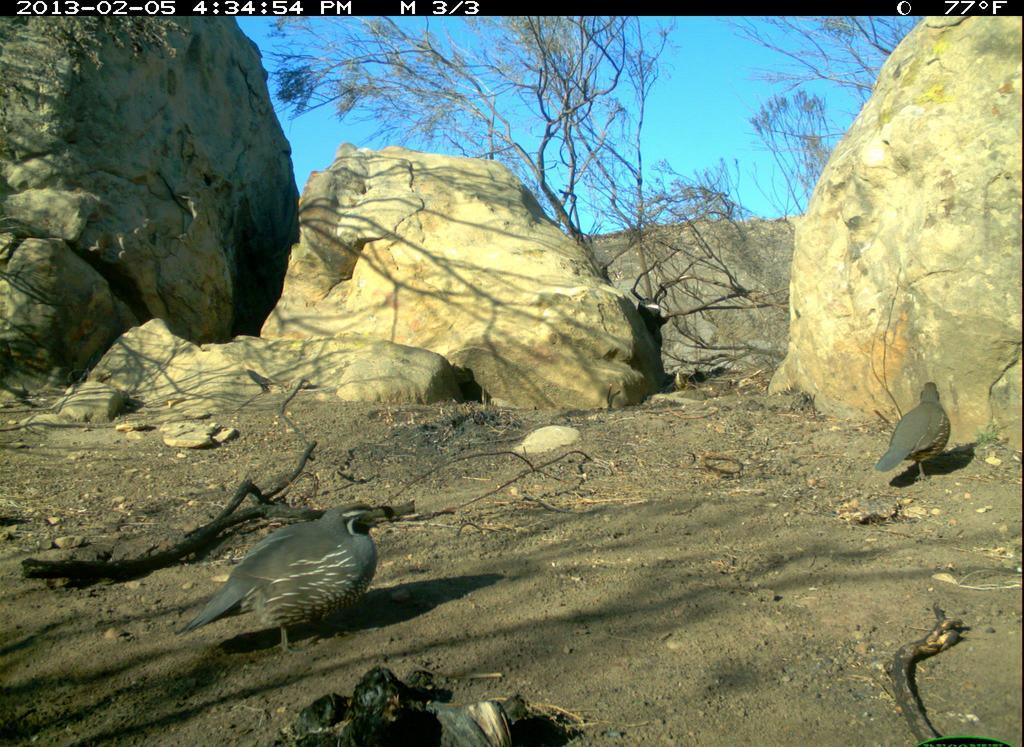bird: (168, 487, 410, 656)
